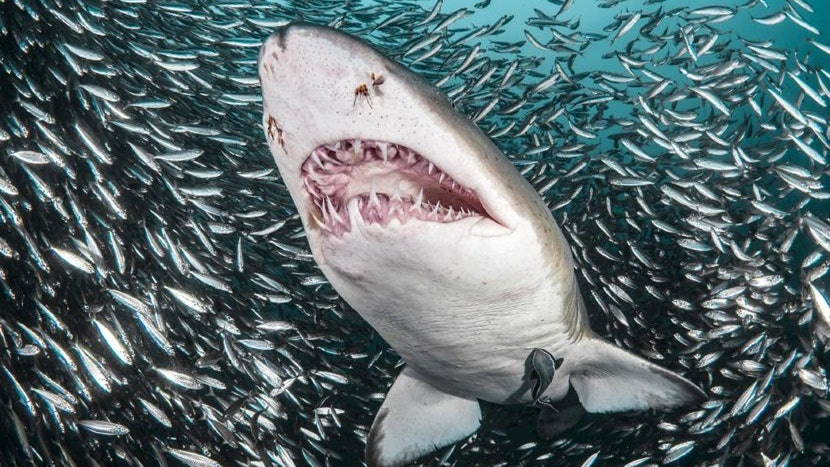shark: (236, 16, 716, 467)
